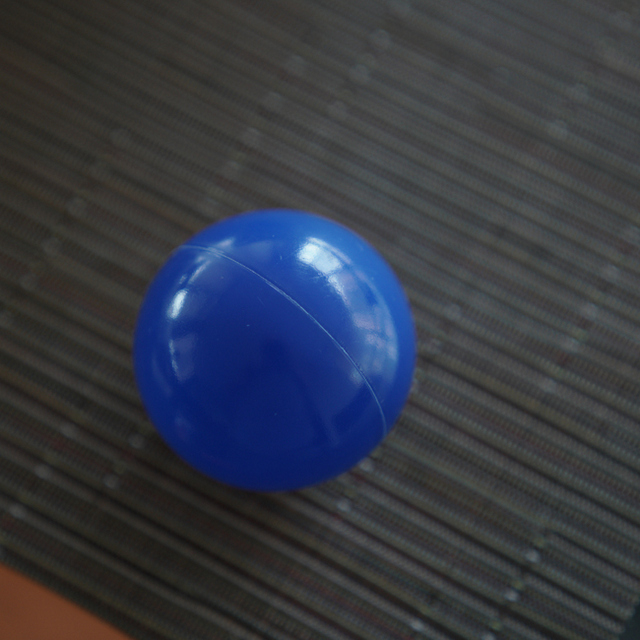Ball: (134, 212, 414, 490)
